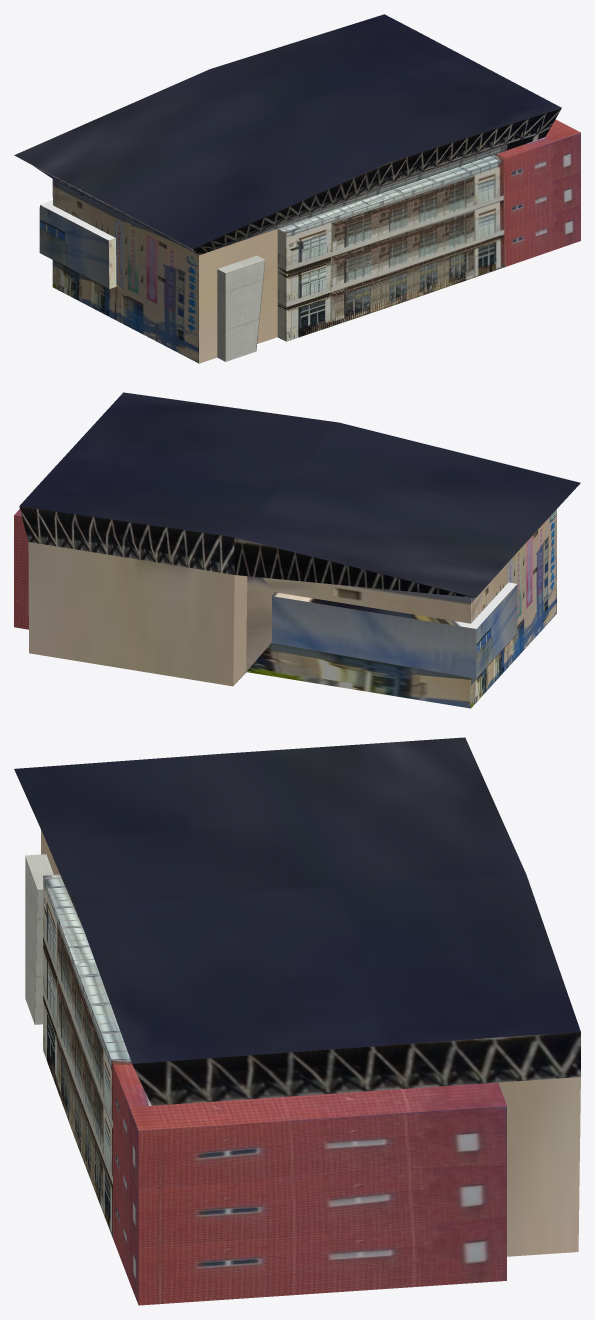
File: SchoolBuilding.fbx
3 renders of one model, top to bottom at view 1: azimuth 30°, elevation 25°; view 2: azimuth 150°, elevation 25°; view 3: azimuth 270°, elevation 25°, orthographic. The views are drawn at different scales.
Visible parts, largest first — view 1: 立方體; view 2: 立方體; view 3: 立方體.
Boxes of the visible parts, box(x1,y1,x2,y2) form: 立方體: box(14, 14, 580, 363); 立方體: box(14, 392, 580, 708); 立方體: box(14, 737, 580, 1305).
Bounding box in the file's own units: 43.01 × 12.81 × 28.13.
1 material, 1 textured.
